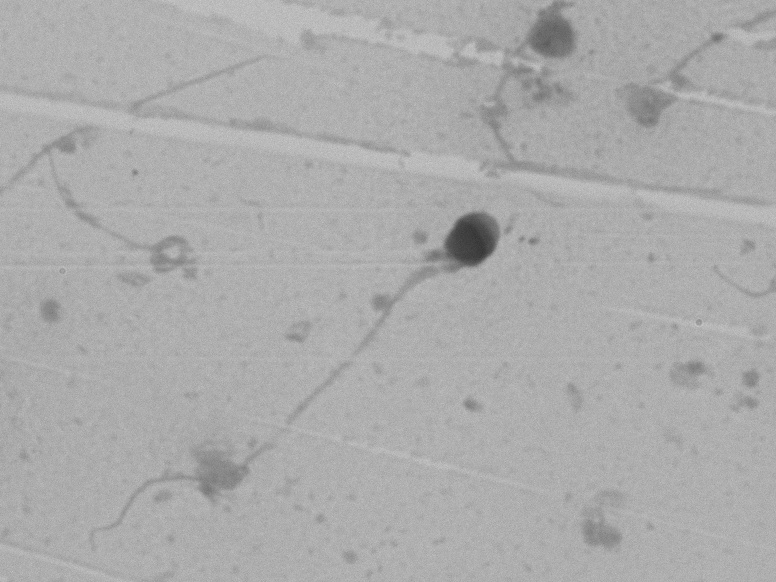Abnormal: (190, 187, 563, 480)
